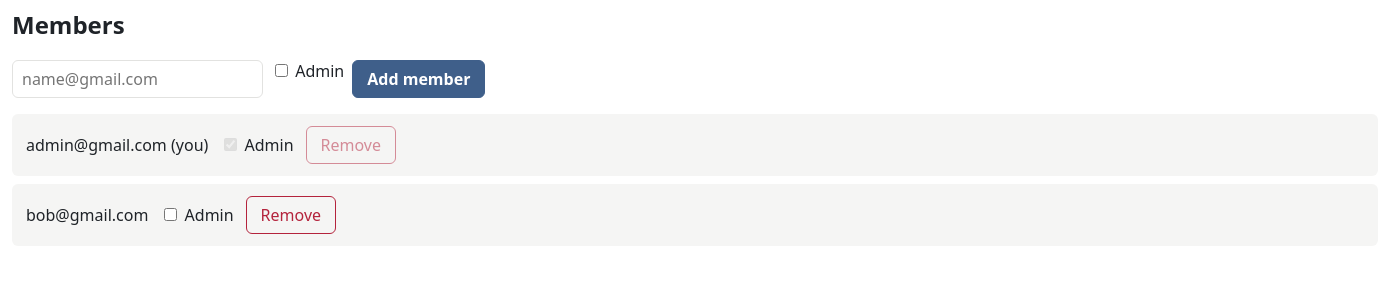
Test: Members › rejects an invalid email
In the field named "Email to add": (138, 79) [12,60,263,98], type "not-an-email"
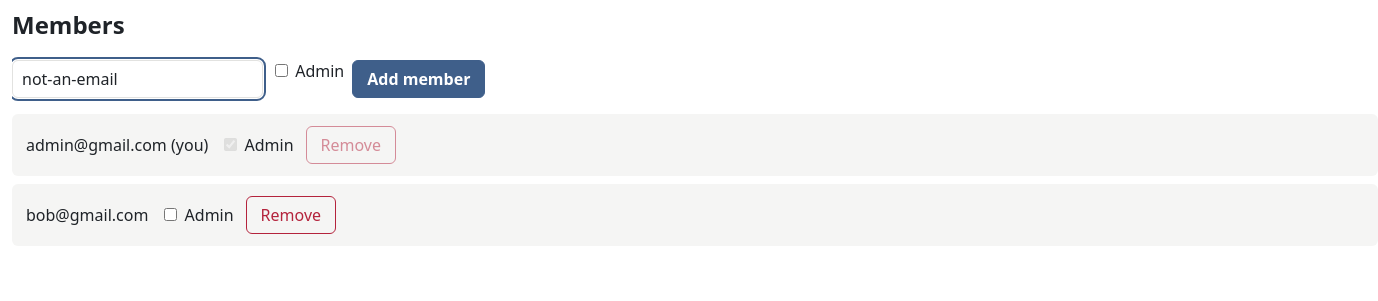
Click the button "Add member": (419, 79) [352,60,485,98]
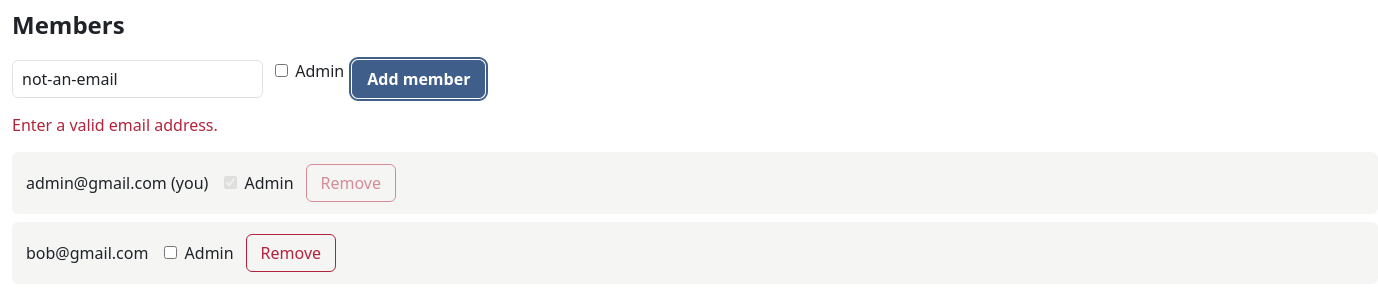
Now the message reads "Enter a valid email address.", box [12,114,218,136]
